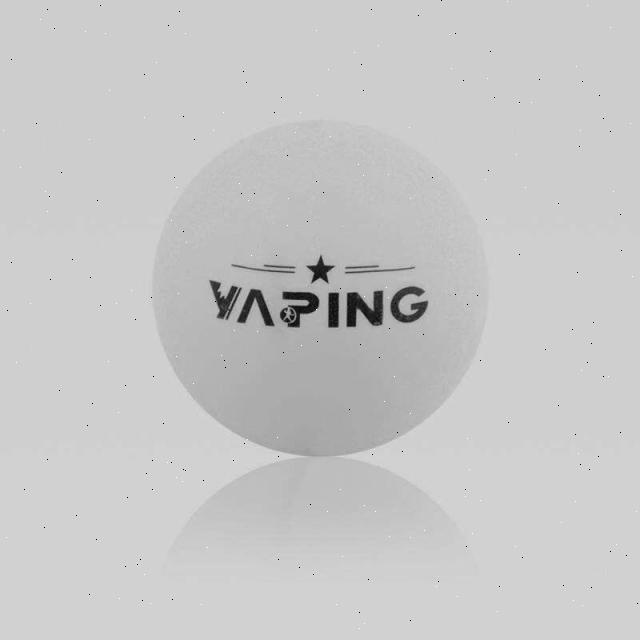ping-pong-ball: (147, 112, 487, 462)
